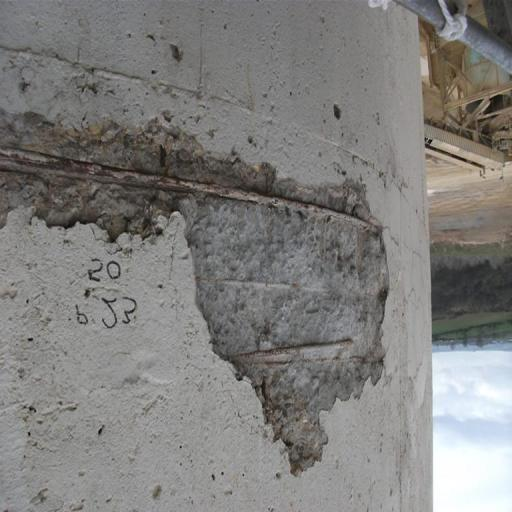spalling: (2, 105, 393, 482)
